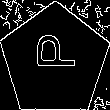P_W: (30, 42, 79, 79)
